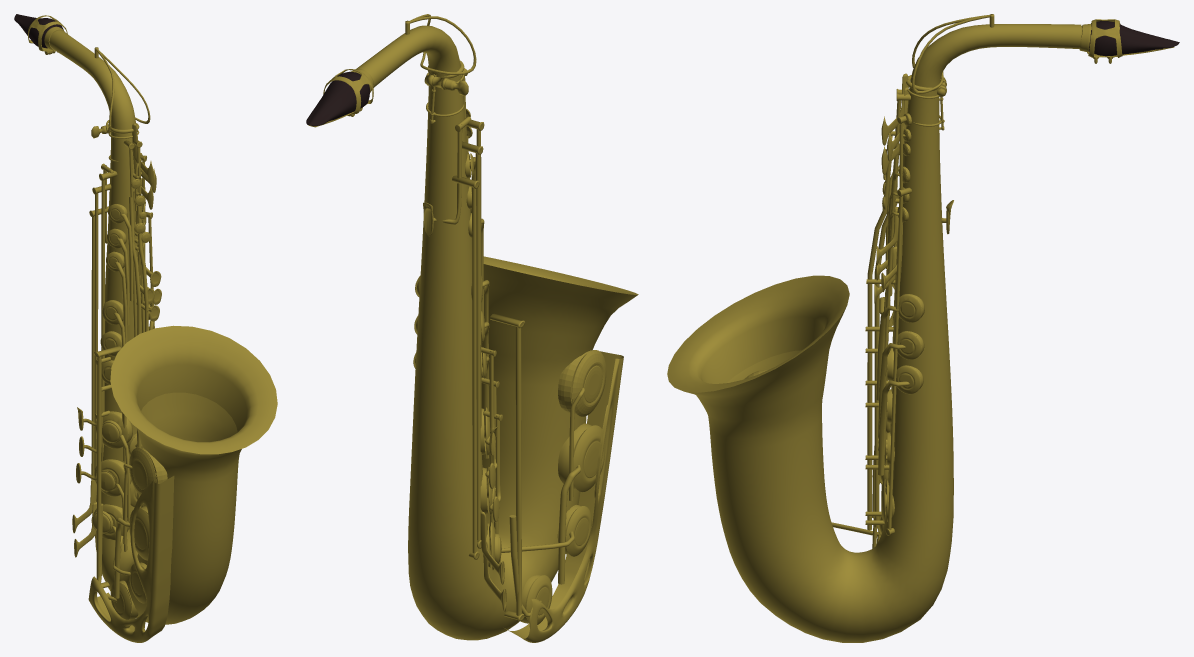
The model's file is saxophone_alto.glb.
The picture shows the model from 3 angles, left to right: view 1: azimuth 30°, elevation 25°; view 2: azimuth 150°, elevation 25°; view 3: azimuth 270°, elevation 25°; orthographic projection. The views are drawn at different scales.
Parts seen in each view (by area): view 1: Object_2, Object_3, Object_7, Object_9, Object_4, Object_6, Object_5, Object_8; view 2: Object_2, Object_3, Object_7, Object_9, Object_4, Object_5, Object_6, Object_8; view 3: Object_2, Object_3, Object_5, Object_6, Object_8.
Part boxes in pixels (x1,y1,x2,y2): Object_2: (49,30,277,624); Object_3: (72,47,161,588); Object_7: (88,476,174,642); Object_9: (97,464,157,602); Object_4: (129,447,167,495); Object_6: (23,15,67,54); Object_5: (14,14,63,48); Object_8: (96,49,150,133); Object_2: (356,25,638,640); Object_3: (405,20,525,621); Object_7: (504,351,623,642); Object_9: (494,387,584,617); Object_4: (558,350,606,416); Object_5: (306,71,369,126); Object_6: (308,68,373,127); Object_8: (410,14,476,74); Object_2: (667,24,1081,642); Object_3: (865,14,994,535); Object_5: (1088,21,1179,56); Object_6: (1079,19,1174,63); Object_8: (912,14,989,93).
Size of the model in its own units: 2.63 by 8.91 by 6.63.
